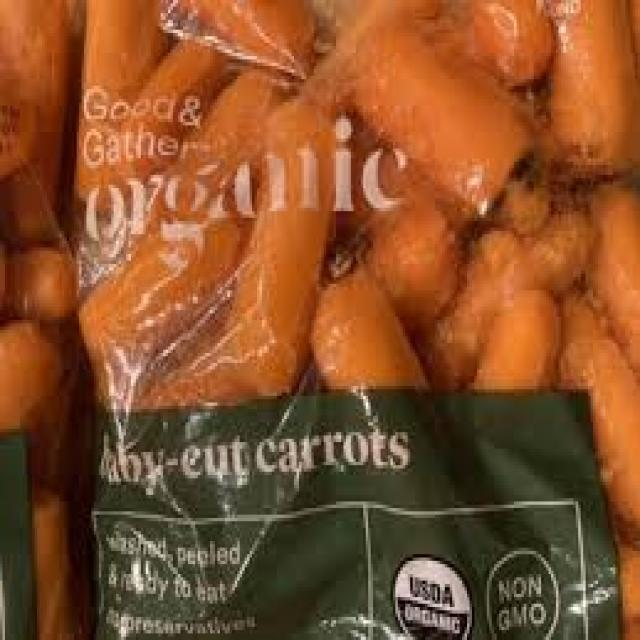Fresh_Carrot: (299, 0, 640, 234), (139, 103, 335, 408), (396, 257, 556, 387), (593, 190, 640, 373)
